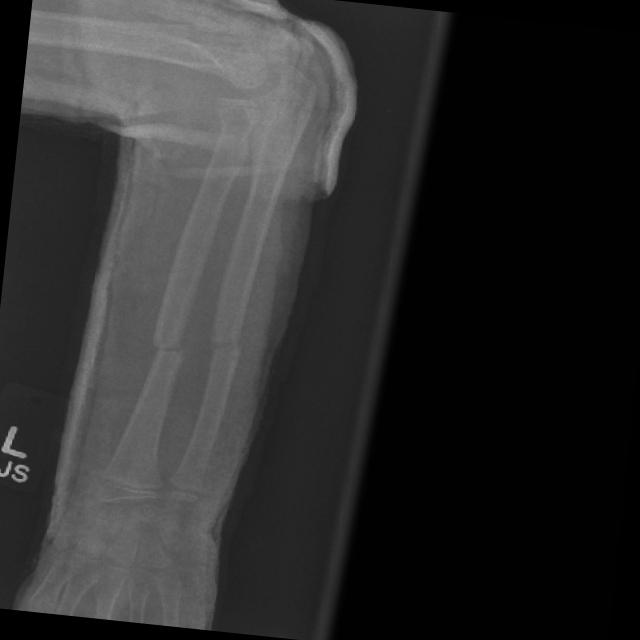forearm fracture: (115, 293, 278, 400)
